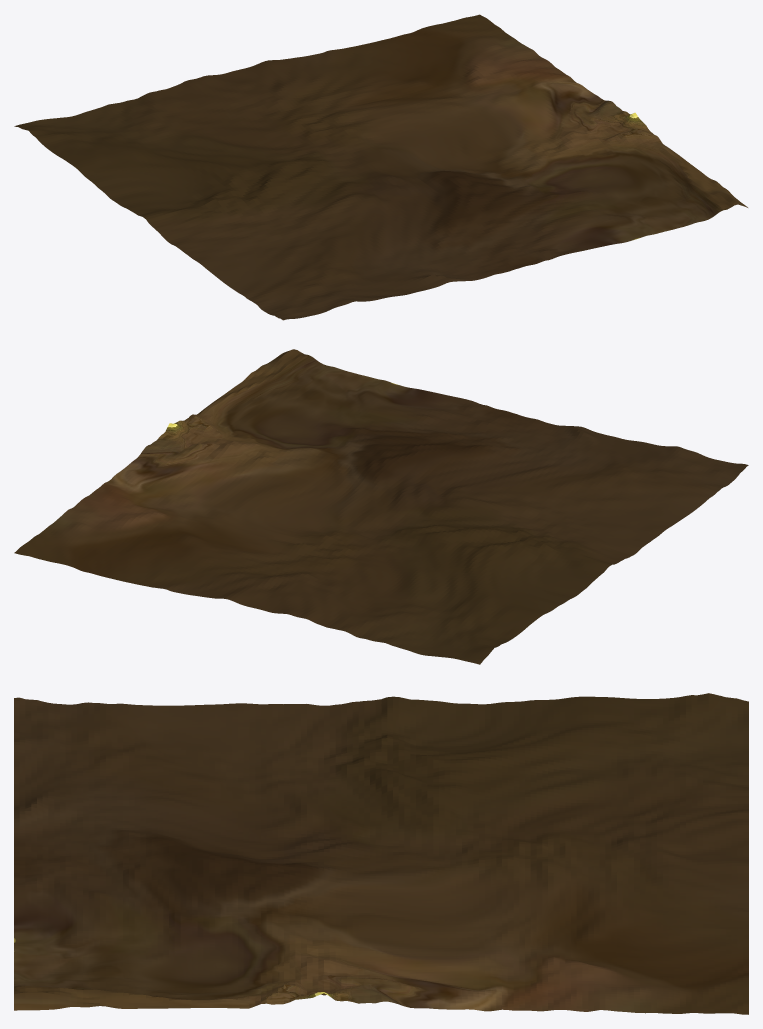
File: terrain.glb
3 views of the same model, one above another, from view 1: azimuth 30°, elevation 25°; view 2: azimuth 150°, elevation 25°; view 3: azimuth 270°, elevation 25° (orthographic). The views are drawn at different scales.
Visible parts, largest first — view 1: Plane; view 2: Plane; view 3: Plane.
Boxes of the visible parts, bbox=[...] form: Plane: bbox=[14, 14, 747, 320]; Plane: bbox=[14, 349, 748, 664]; Plane: bbox=[14, 693, 748, 1014].
Size of what is drawn, in the model's own units: 60 by 2.31 by 60.
Materials: 1 (1 with a texture image).
